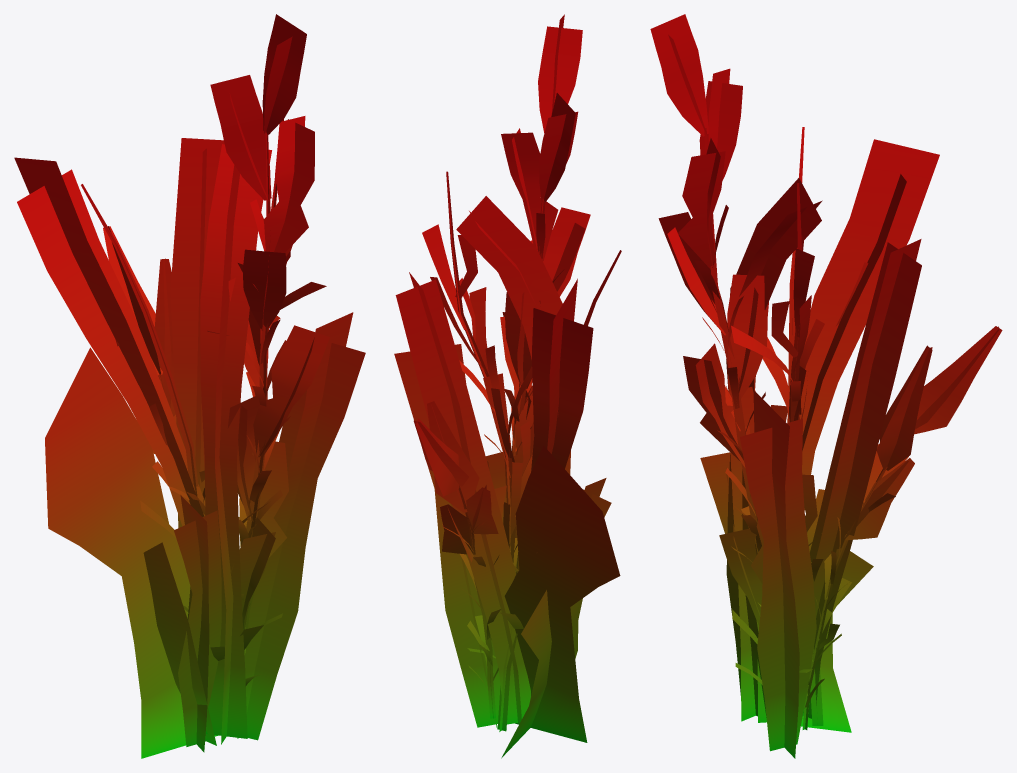
Rendered from F01_Seaweed_02.fbx.
The picture shows the model from 3 angles, left to right: view 1: azimuth 30°, elevation 25°; view 2: azimuth 150°, elevation 25°; view 3: azimuth 270°, elevation 25°; orthographic projection. The views are drawn at different scales.
Parts seen in each view (by area): view 1: _82ec_Var2_LOD1; view 2: _82ec_Var2_LOD1; view 3: _82ec_Var2_LOD1.
Boxes of the visible parts, box(x1,y1,x2,y2) form: _82ec_Var2_LOD1: box(14, 14, 365, 758); _82ec_Var2_LOD1: box(394, 14, 621, 758); _82ec_Var2_LOD1: box(650, 14, 1002, 758).
Bounding box in the file's own units: 25.46 × 66.5 × 29.12.
